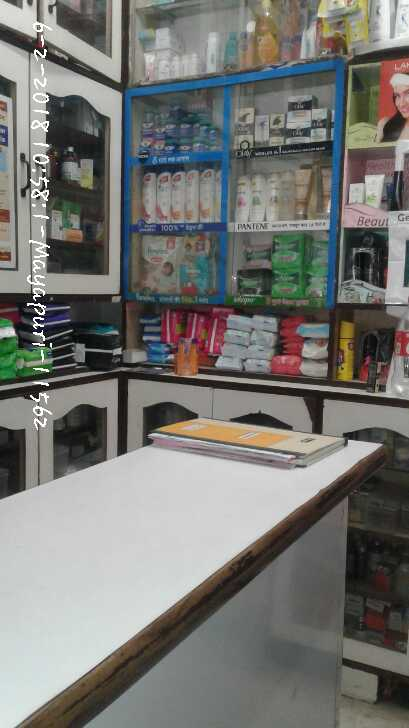vicks: (140, 97, 230, 159)
